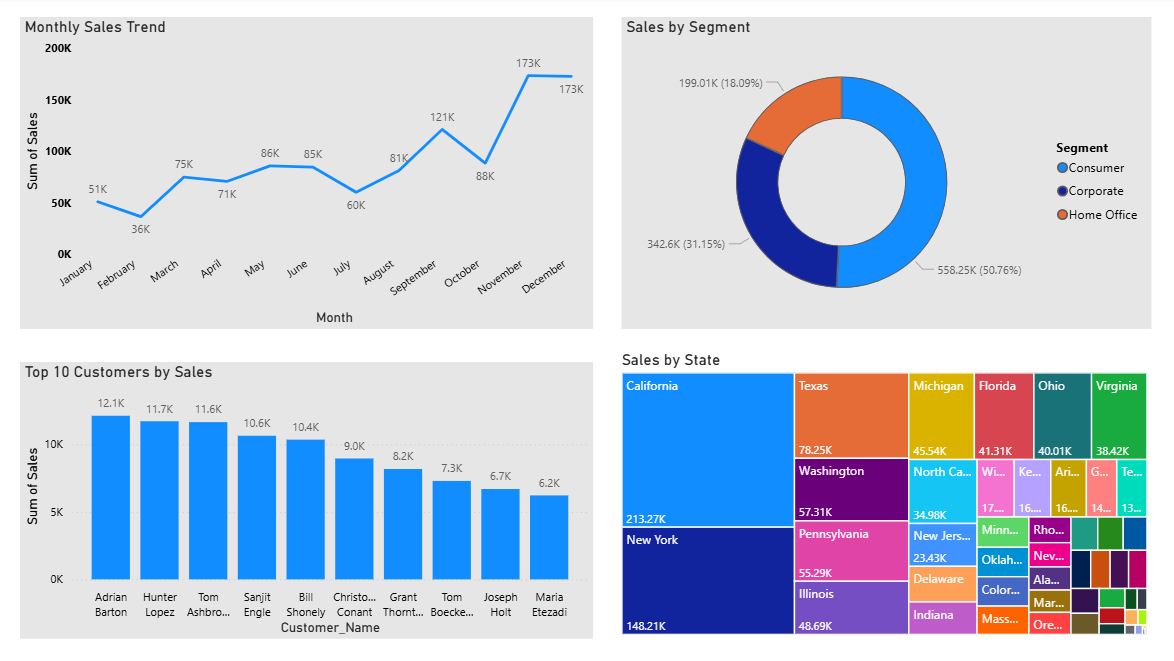

The dashboard page shown, as its layout file describes it:
{"tool":"powerbi","page":{"name":"Customer & Product Analysis","canvas":[1280,720],"ordinal":1},"visuals":[{"type":"lineChart","title":"Monthly Sales Trend","fields":{"Y":["Sum(sample_superstore.Sales)"],"Category":["sample_superstore.Order_Date.Variation.Date Hierarchy.Month"]},"box":[26.7,23.3,618.3,336.7],"z":0},{"type":"columnChart","title":"Top 10 Customers by Sales","fields":{"Category":["sample_superstore.Customer_Name"],"Y":["Sum(sample_superstore.Sales)"]},"box":[26.7,395,618.3,298.3],"z":1},{"type":"donutChart","title":"Sales by Segment","fields":{"Category":["sample_superstore.Segment"],"Y":["Sum(sample_superstore.Sales)"]},"box":[675,23.3,571.7,336.7],"z":2},{"type":"treemap","title":"Sales by State","fields":{"Group":["sample_superstore.State"],"Values":["Sum(sample_superstore.Sales)"]},"box":[670,381.7,576.7,311.7],"z":3}]}

Visuals, with their boxes in screenshot pixels (x1, y1, x2, y2), scaled from the page's 1280x720 canvas onto the 1174x661 screenshot:
"Monthly Sales Trend" lineChart: bbox(24, 21, 592, 330)
"Top 10 Customers by Sales" columnChart: bbox(24, 363, 592, 636)
"Sales by Segment" donutChart: bbox(619, 21, 1143, 330)
"Sales by State" treemap: bbox(615, 350, 1143, 637)
